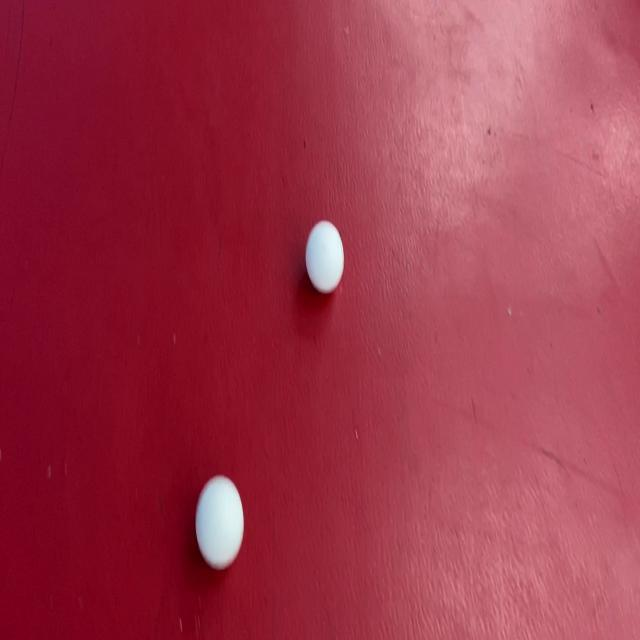ping-pong-ball: (193, 473, 247, 574), (303, 214, 347, 296)
